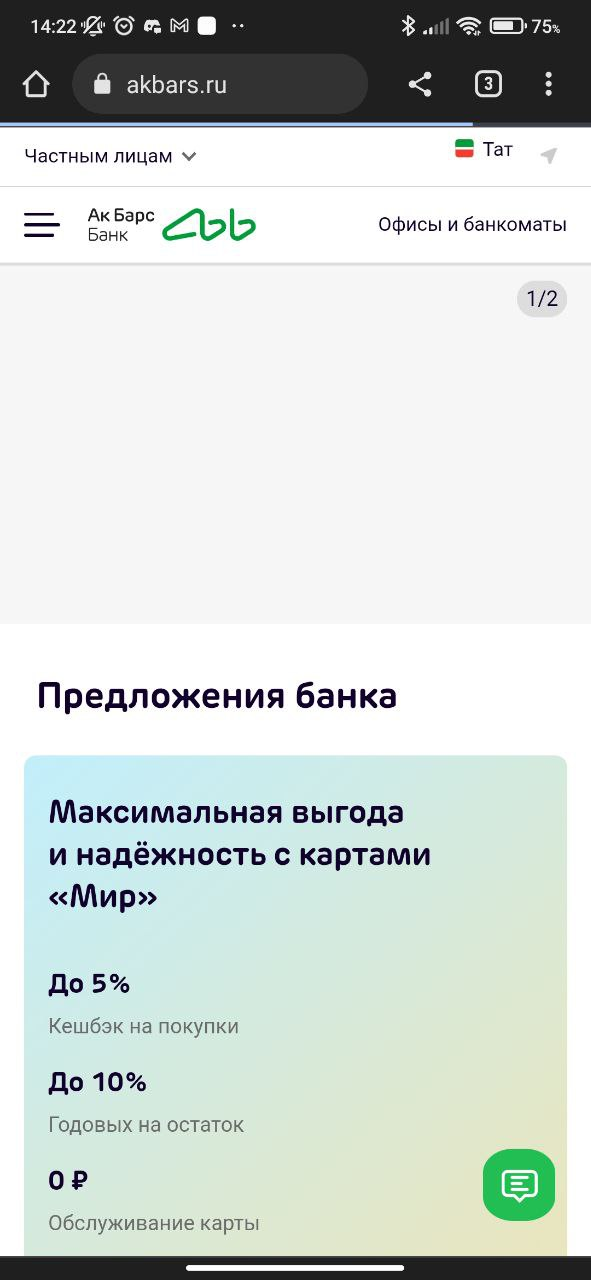burger_menu: (18, 207, 60, 245)
